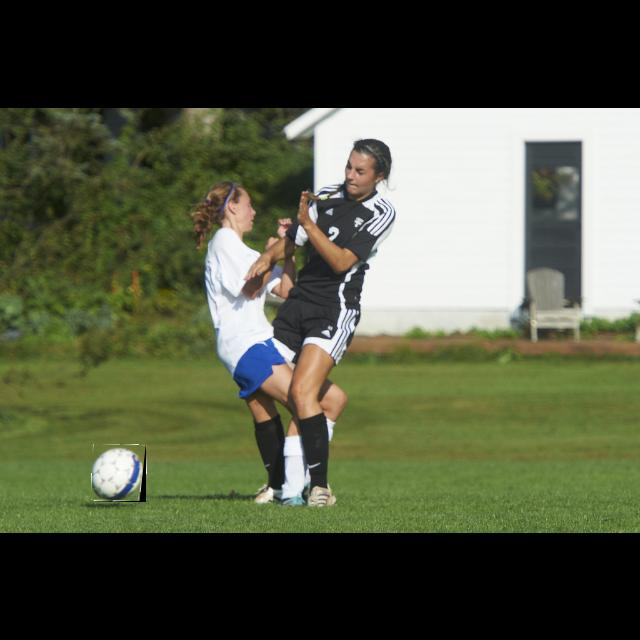Football: (92, 444, 146, 502)
